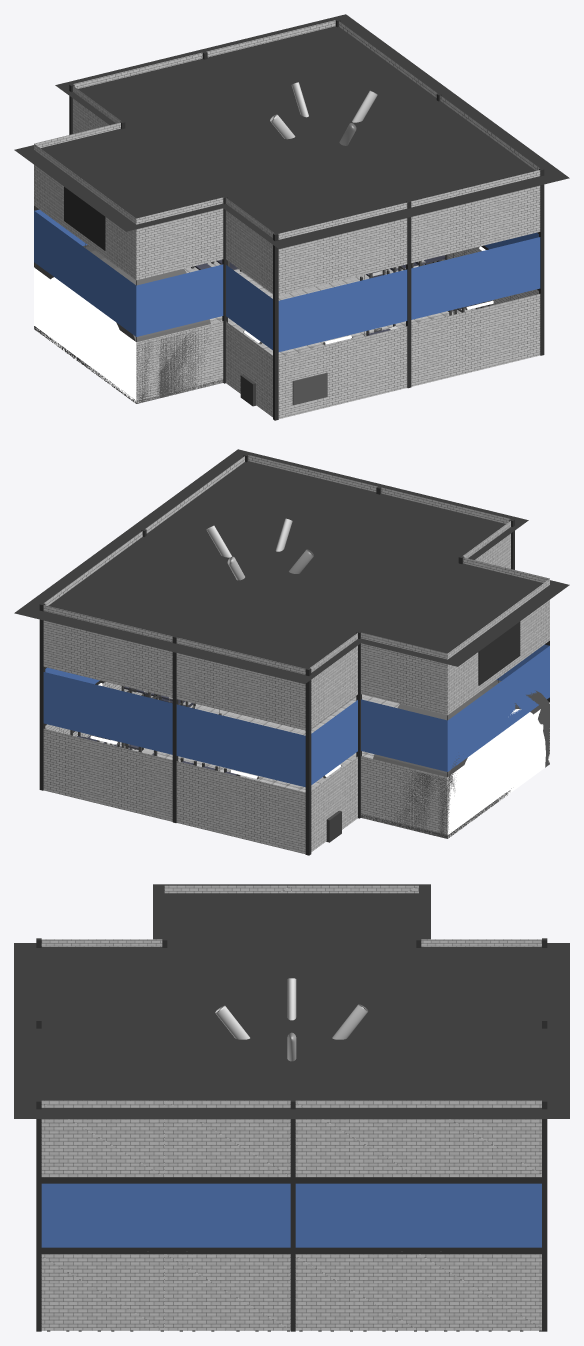
File: gym.glb
The picture shows the model from 3 angles, top to bottom: view 1: azimuth 30°, elevation 25°; view 2: azimuth 150°, elevation 25°; view 3: azimuth 270°, elevation 25°; orthographic projection. The views are drawn at different scales.
Visible parts, largest first — view 1: Walls, Plane, Cylinder, Ground, BackWall, Cube.011, Cube.009, Cube.005, Cube.007, Cube.013, Cube; view 2: Walls, Plane, Cylinder, Ground, BackWall, Cube.011, Cube.010, Cube.006, Cube.008, Cube.004; view 3: BackWall, Plane, Walls, Cube.007, Cube.008, Cube.012.
Part boxes in pixels (box(x1,y1,x2,y2)): Walls: box(34, 20, 540, 418); Plane: box(14, 14, 569, 248); Cylinder: box(35, 245, 211, 403); Ground: box(34, 261, 475, 403); BackWall: box(339, 21, 539, 308); Cube.011: box(64, 187, 105, 250); Cube.009: box(273, 233, 278, 420); Cube.005: box(406, 200, 411, 388); Cube.007: box(539, 168, 544, 355); Cube.013: box(292, 372, 327, 405); Cube: box(222, 195, 227, 383); Walls: box(43, 455, 549, 854); Plane: box(14, 449, 569, 683); Cylinder: box(373, 680, 549, 838); Ground: box(116, 694, 549, 838); BackWall: box(44, 456, 244, 739); Cube.011: box(478, 621, 520, 685); Cube.010: box(305, 668, 311, 855); Cube.006: box(172, 635, 178, 822); Cube.008: box(39, 603, 45, 790); Cube.004: box(356, 630, 361, 818); BackWall: box(41, 1100, 541, 1330); Plane: box(14, 884, 569, 1118); Walls: box(41, 885, 541, 946); Cube.007: box(36, 1099, 41, 1331); Cube.008: box(542, 1099, 547, 1331); Cube.012: box(290, 1099, 295, 1331).
Bounding box in the file's own units: 43.76 × 23.15 × 43.76.
18 materials, 9 textured.
